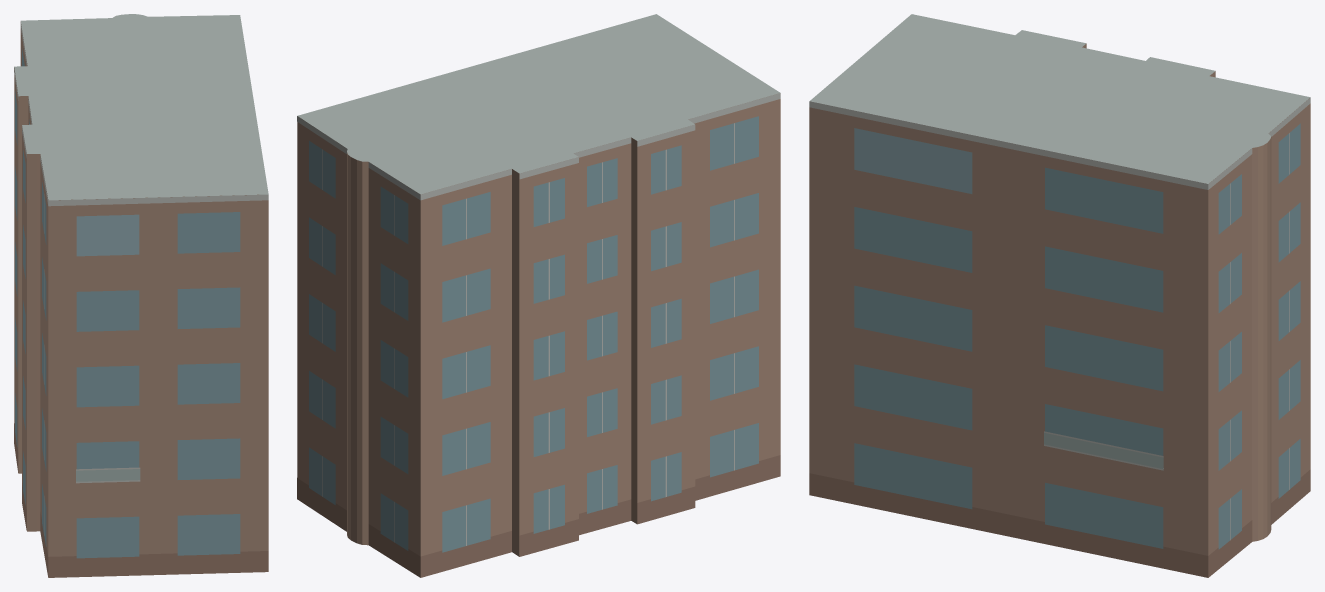
File: survey-upis-32891278.glb
3 views of the same model, side by side, from view 1: azimuth 30°, elevation 25°; view 2: azimuth 150°, elevation 25°; view 3: azimuth 270°, elevation 25° (orthographic). The views are drawn at different scales.
Parts seen in each view (by area): view 1: survey-upis-32891278.tmp; view 2: survey-upis-32891278.tmp; view 3: survey-upis-32891278.tmp.
Part boxes in pixels (x1,y1,x2,y2): survey-upis-32891278.tmp: (14,14,268,577); survey-upis-32891278.tmp: (297,14,780,577); survey-upis-32891278.tmp: (809,14,1310,577).
Size of the model in its own units: 14.64 by 15.8 by 18.23.
